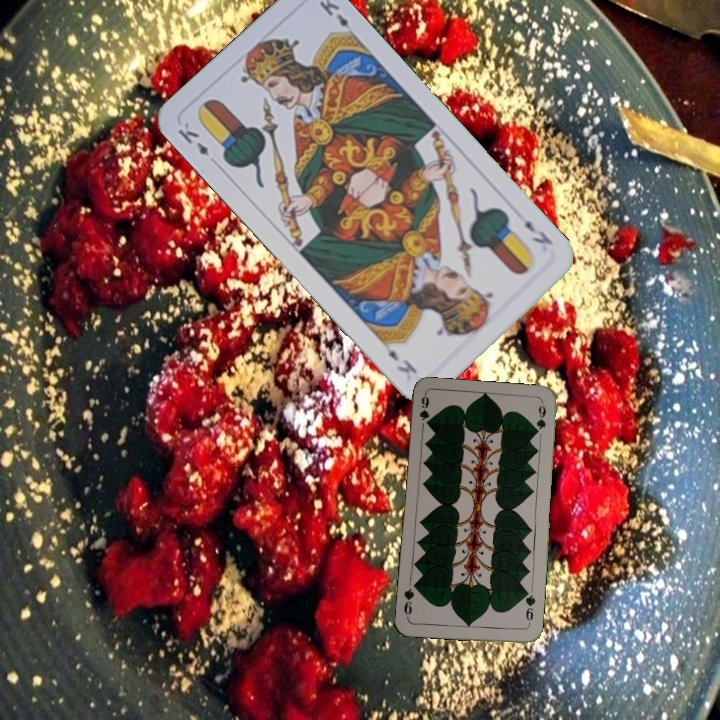EK: (173, 118, 212, 159), (520, 215, 556, 248)
G9: (521, 588, 538, 628), (415, 392, 432, 429)
